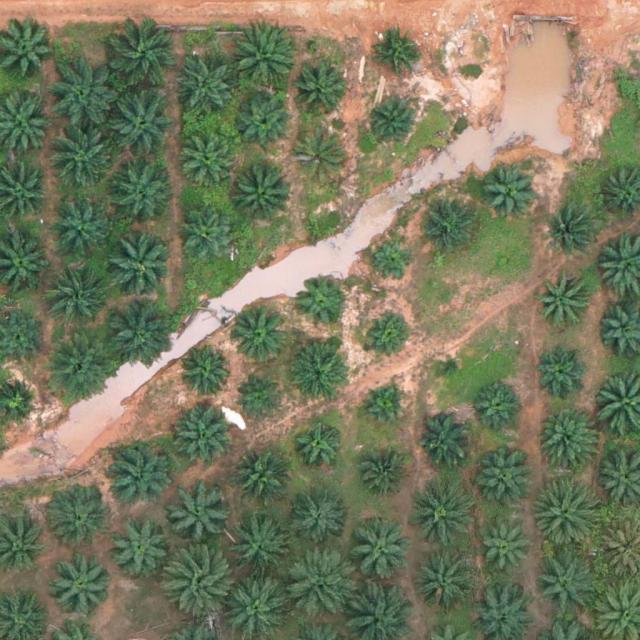Healthy: (45, 337, 116, 408), (106, 156, 177, 227), (101, 225, 172, 296), (47, 60, 118, 130), (104, 302, 174, 373), (229, 23, 299, 94), (534, 479, 604, 550), (284, 548, 354, 619), (49, 125, 119, 195), (42, 263, 112, 333), (108, 20, 178, 90), (109, 90, 179, 160), (165, 547, 235, 617), (177, 53, 240, 116), (537, 408, 600, 471), (475, 451, 538, 514), (349, 521, 412, 584), (169, 482, 232, 545), (105, 444, 168, 507), (49, 195, 111, 258), (419, 199, 481, 262), (286, 346, 348, 409), (171, 410, 233, 473), (48, 484, 110, 547), (536, 555, 598, 618), (289, 485, 351, 548), (230, 520, 293, 582), (51, 553, 113, 616), (229, 160, 291, 222), (412, 485, 474, 547), (108, 516, 170, 578), (414, 550, 476, 612), (371, 25, 426, 80), (292, 131, 347, 186), (180, 132, 235, 187), (182, 207, 237, 262), (238, 94, 293, 149), (294, 61, 349, 116), (547, 206, 602, 261), (480, 162, 535, 217), (233, 451, 288, 506), (539, 274, 594, 329), (536, 346, 591, 401), (478, 526, 533, 581), (419, 412, 474, 467), (230, 307, 285, 362), (179, 346, 234, 401), (368, 98, 422, 153), (297, 276, 351, 331), (356, 452, 410, 507), (471, 375, 525, 430)
Small: (295, 422, 342, 470), (239, 379, 286, 426), (361, 385, 408, 432), (365, 312, 412, 359), (372, 237, 419, 284), (435, 350, 466, 381)
